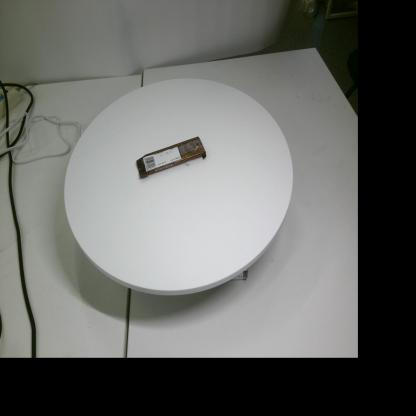Chocolate: (136, 136, 206, 178)
